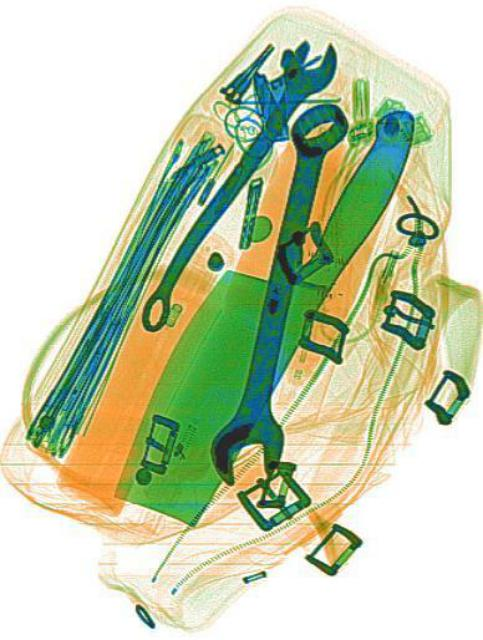Knife: (99, 52, 426, 554)
Wrench: (126, 22, 343, 344), (203, 88, 348, 498)
